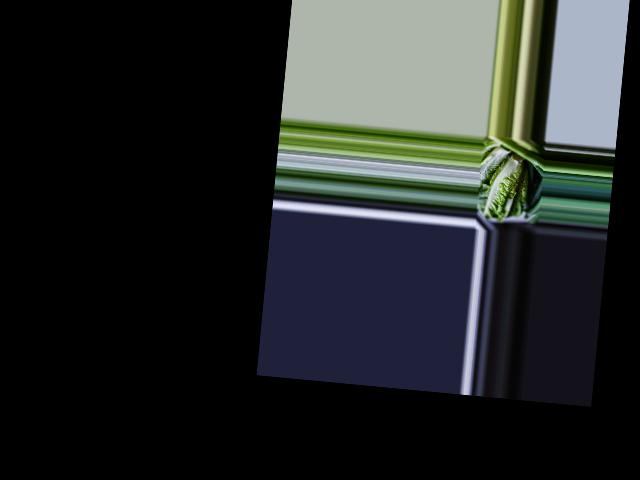lettuce: (482, 151, 532, 223)
